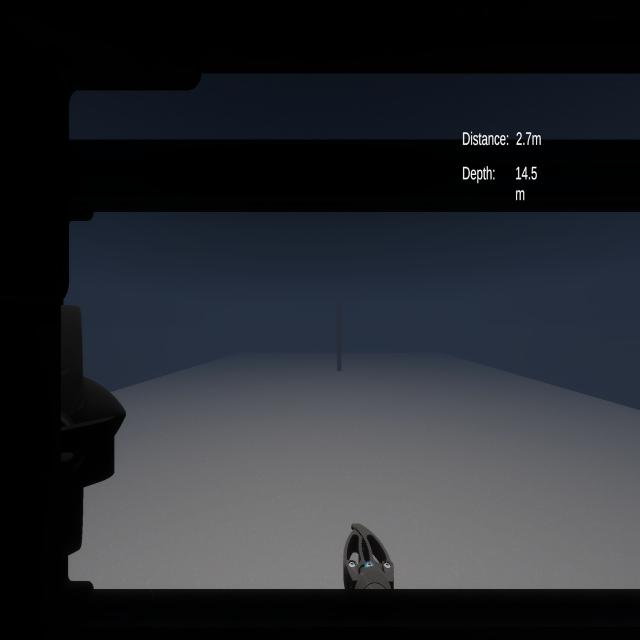Depth: (461, 161, 542, 206)
Distance: (459, 125, 543, 155)
Pole: (331, 284, 349, 378)
